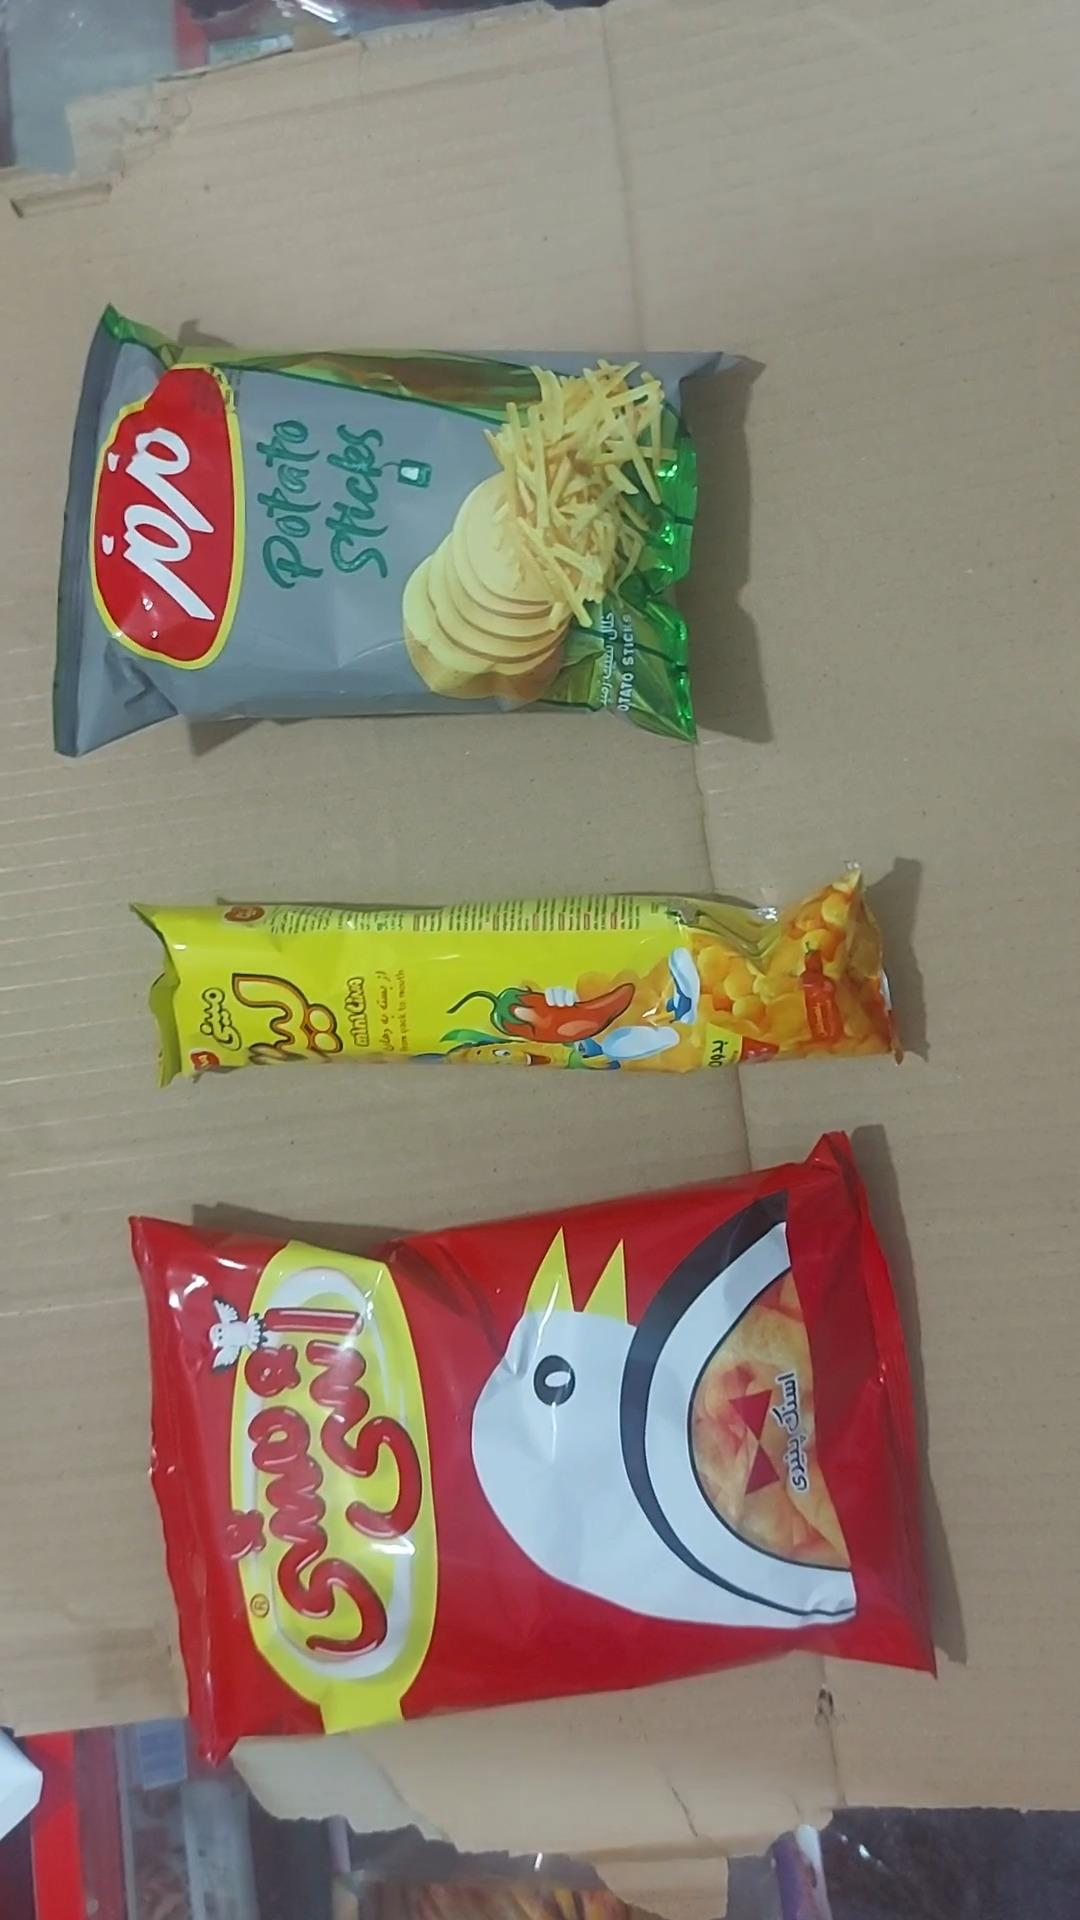Ashi Mashi snacks: (132, 1135, 934, 1760)
Maz Maz potato sticks: (53, 309, 727, 756)
Mini Lina: (135, 870, 901, 1083)
